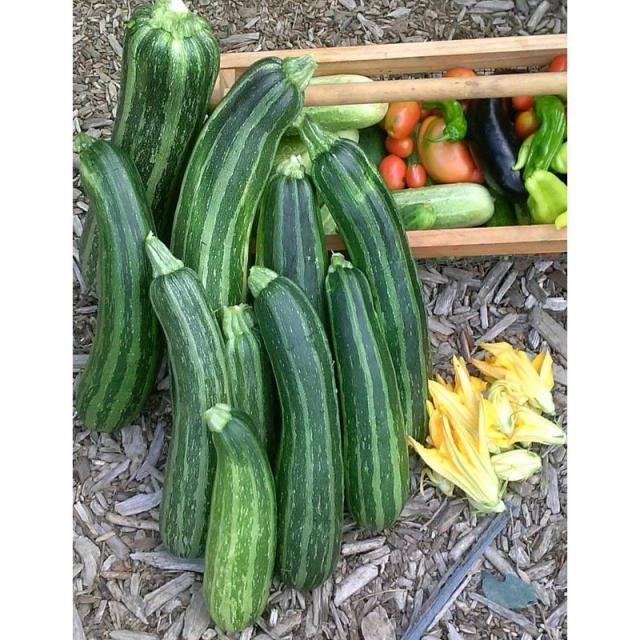Zucchini: (258, 262, 347, 596)
